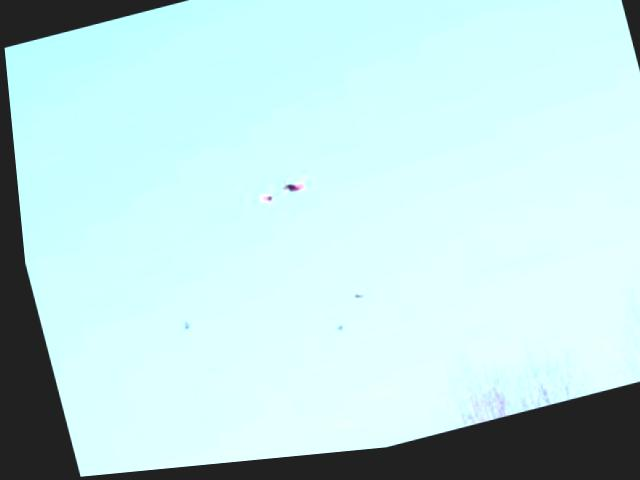uav: (244, 173, 310, 221)
